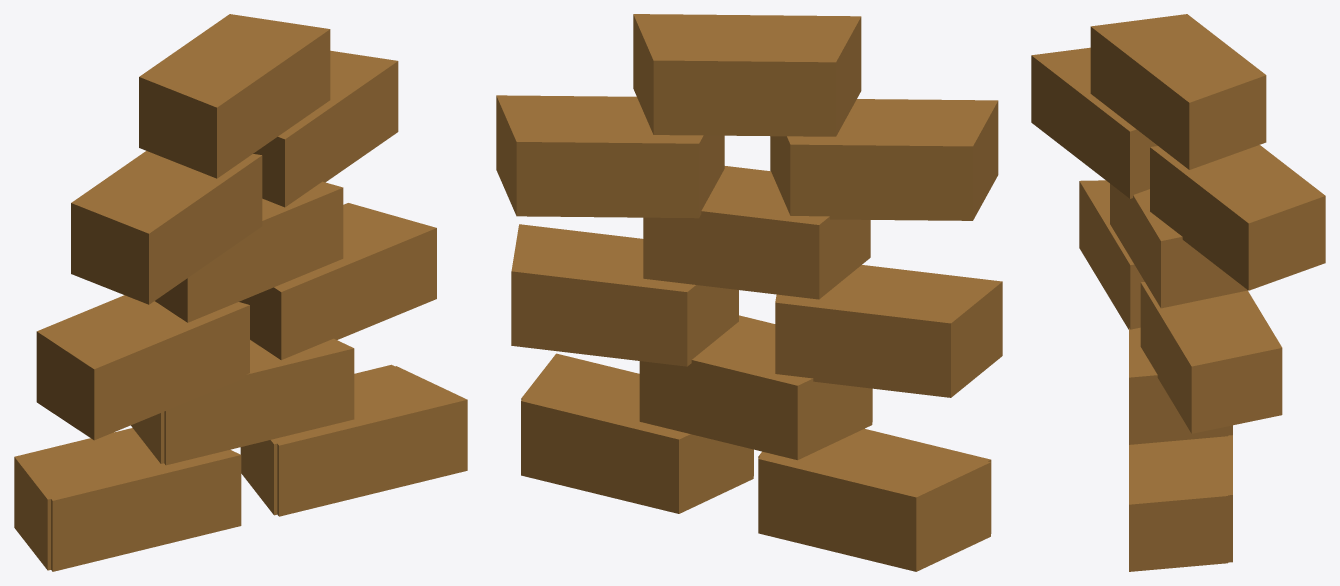
File: Ingot_Bronze.fbx
3 views of the same model, side by side, from view 1: azimuth 30°, elevation 25°; view 2: azimuth 150°, elevation 25°; view 3: azimuth 270°, elevation 25° (orthographic). The views are drawn at different scales.
Visible parts, largest first — view 1: Ingot_Bronze__Stack, Ingot_Bronze; view 2: Ingot_Bronze__Stack, Ingot_Bronze; view 3: Ingot_Bronze__Stack, Ingot_Bronze.
Part boxes in pixels (<box>): Ingot_Bronze__Stack: <box>14,14,447,570</box>; Ingot_Bronze: <box>19,338,467,571</box>; Ingot_Bronze__Stack: <box>496,14,1002,571</box>; Ingot_Bronze: <box>521,315,991,533</box>; Ingot_Bronze__Stack: <box>1031,14,1325,562</box>; Ingot_Bronze: <box>1129,328,1227,571</box>.
Size of the model in its own units: 0.1113 by 0.1125 by 0.0714.
